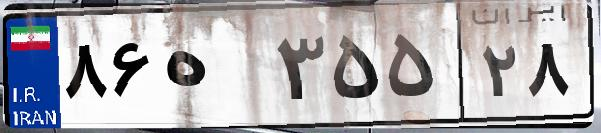2: (475, 38, 525, 113)
3: (270, 28, 330, 110)
5: (385, 28, 445, 110), (330, 28, 385, 110)
6: (110, 28, 158, 98)
8: (57, 26, 110, 100), (525, 38, 570, 115)
ه: (158, 20, 270, 120)
